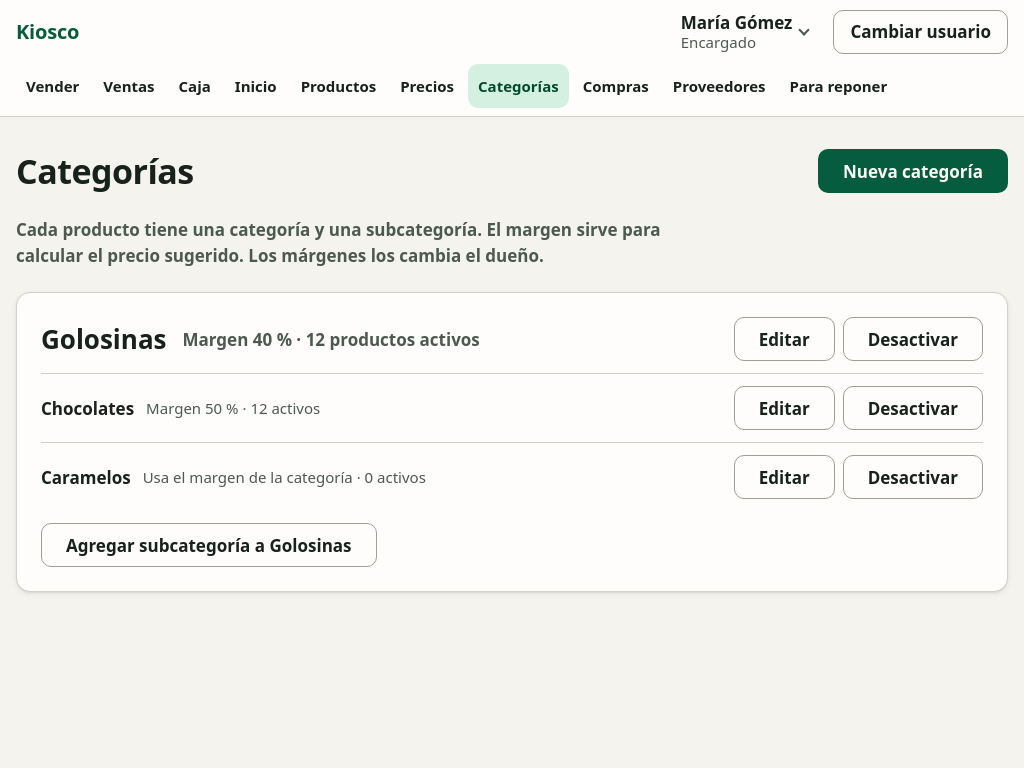
Test case: Categorías › el encargado crea una categoría con su margen inicial (H-23)
Click the button "Nueva categoría" at (913, 171), box [818, 149, 1008, 193]
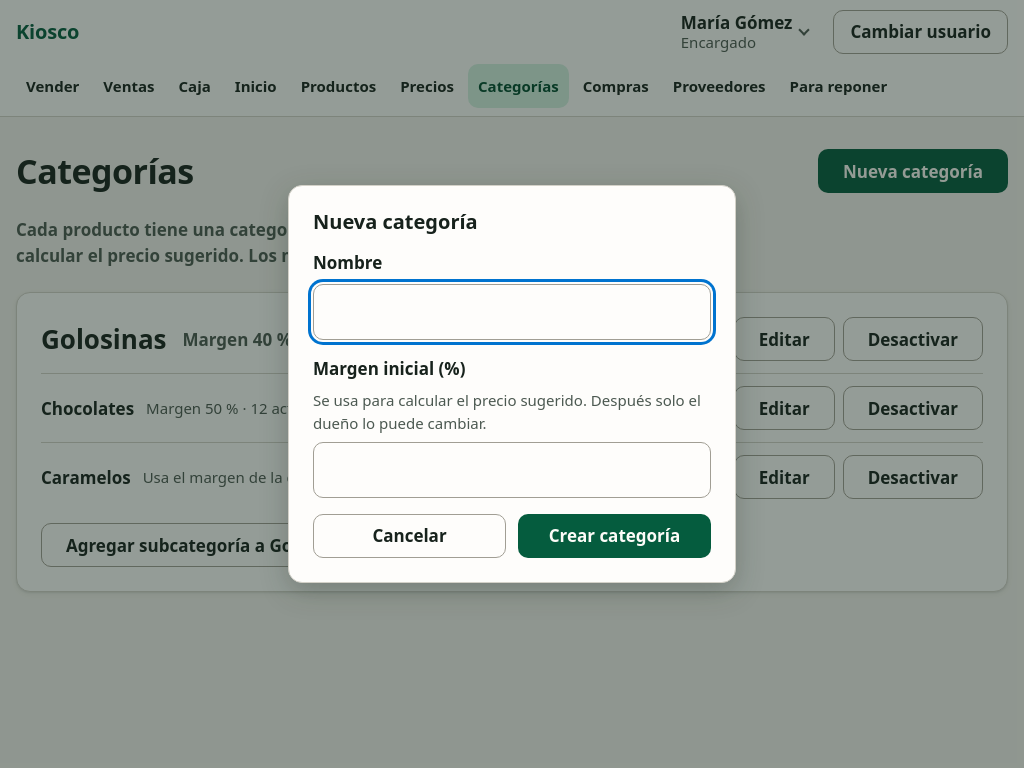
Type "Bebidas" into the field labelled "Nombre" at (512, 312), box [313, 284, 711, 340]
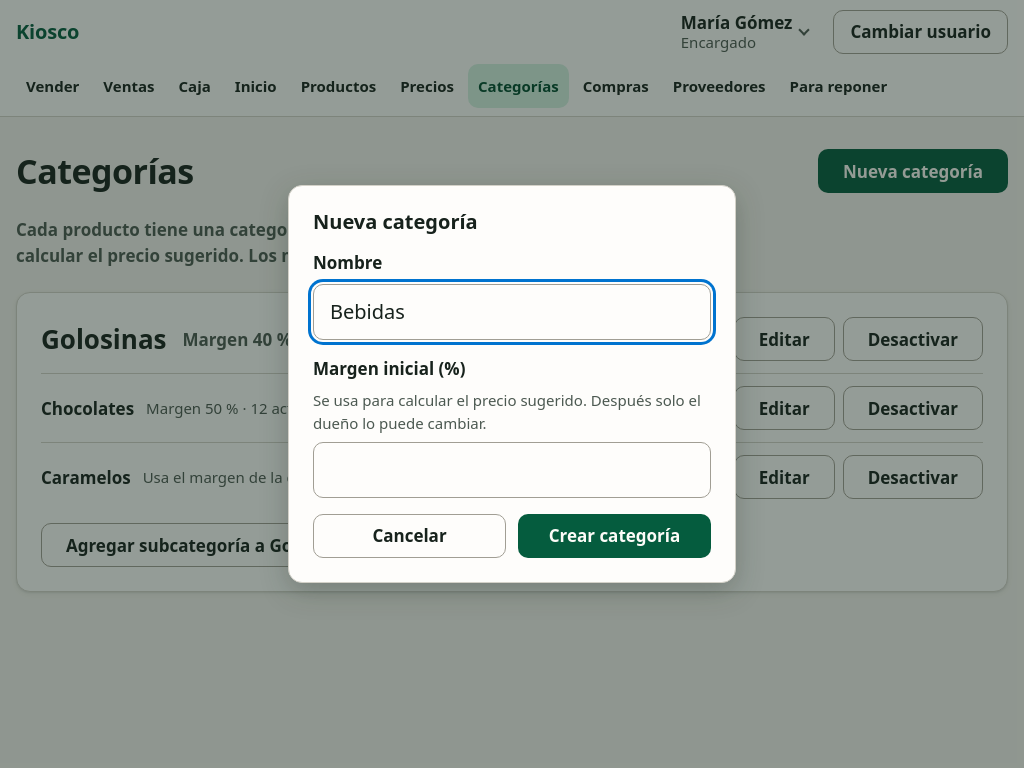
Type "35" into the field labelled "Margen inicial (%)" at (512, 470), box [313, 442, 711, 498]
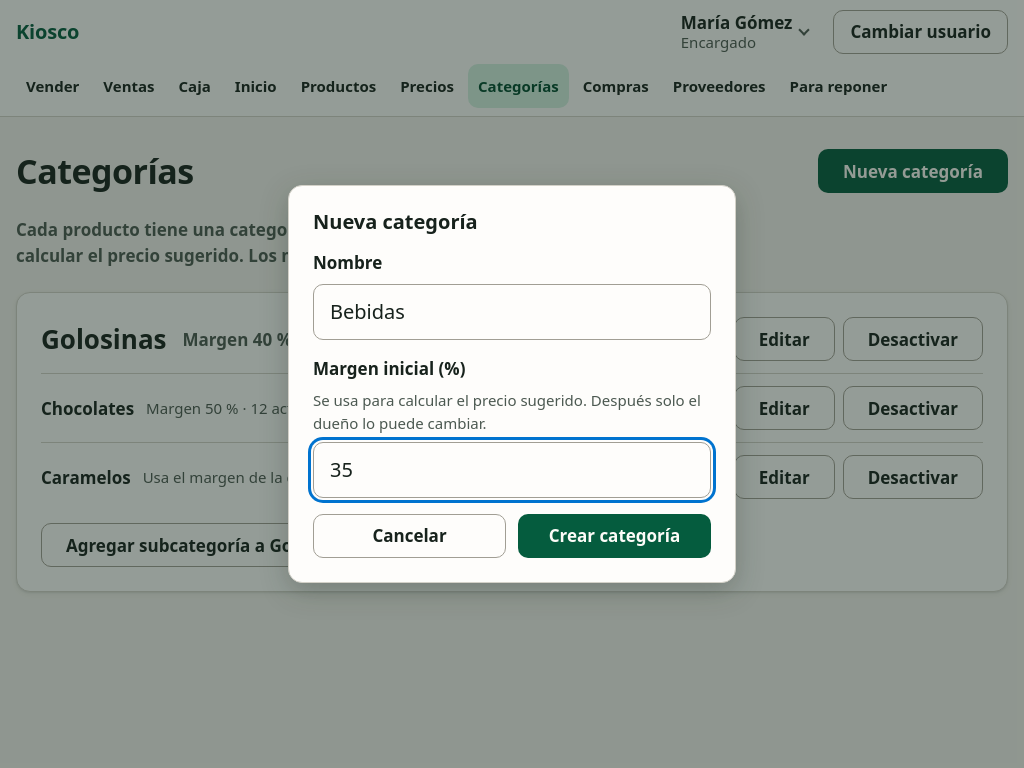
Result: the text "Después solo el dueño lo puede cambiar" is shown at [313, 390, 701, 432]
Click the button "Crear categoría" at (614, 536), box [518, 514, 711, 558]
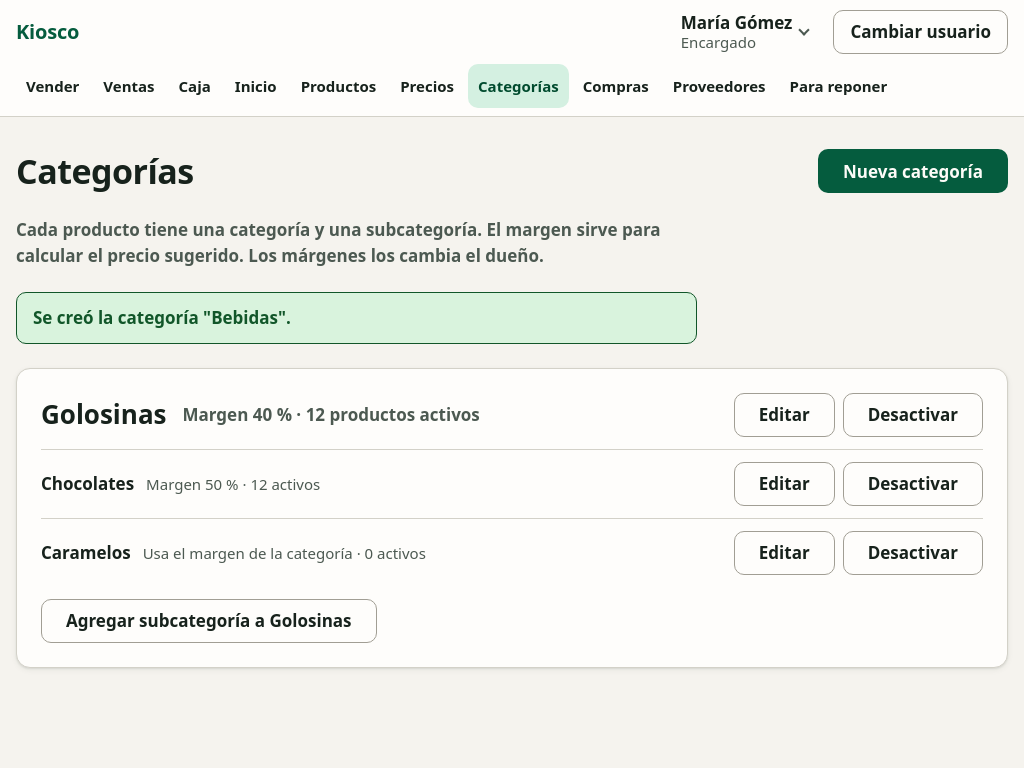
Result: the text "Se creó la categoría \"Bebidas\"." is shown at [16, 292, 697, 344]
